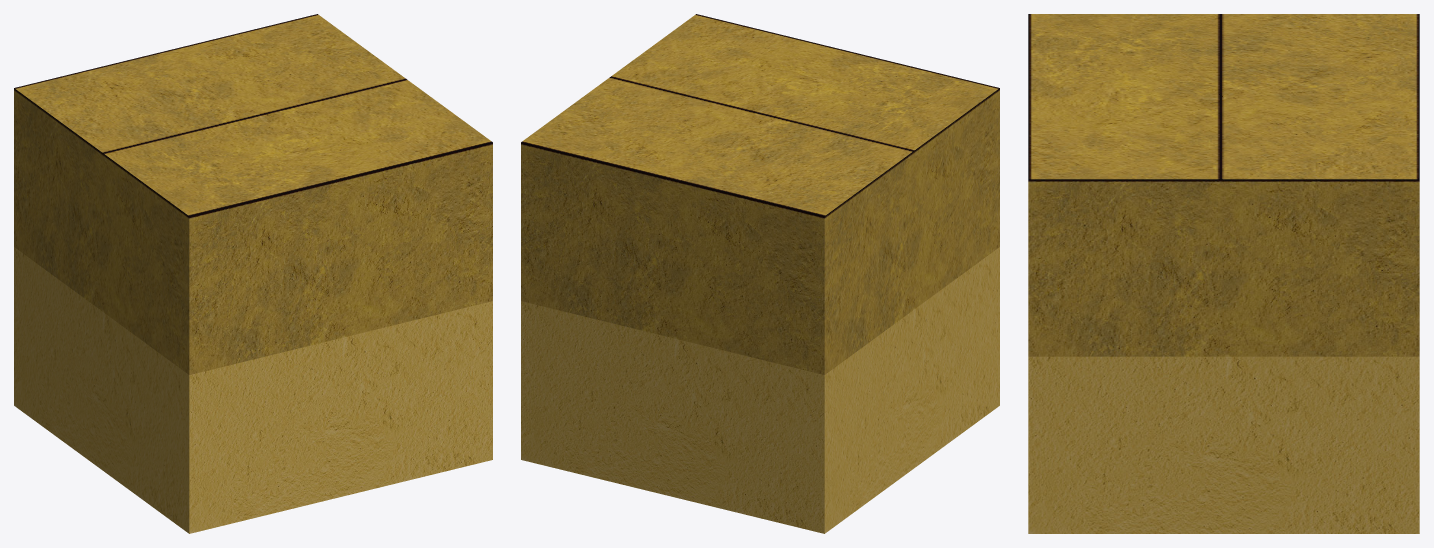
The model's file is testCube.obj.
3 renders of one model, left to right at view 1: azimuth 30°, elevation 25°; view 2: azimuth 150°, elevation 25°; view 3: azimuth 270°, elevation 25°, orthographic. The views are drawn at different scales.
Visible parts, largest first — view 1: Box001; view 2: Box001; view 3: Box001.
Part boxes in pixels (x1,y1,x2,y2): Box001: (14, 14, 492, 533); Box001: (521, 14, 999, 533); Box001: (1028, 14, 1419, 533).
Size of the model in its own units: 100 by 100 by 100.
2 materials, 2 textured.
